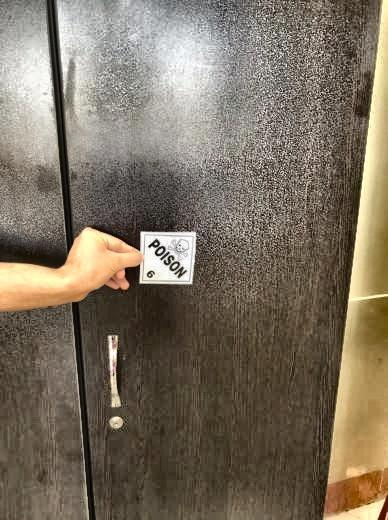poison: (143, 230, 196, 285)
